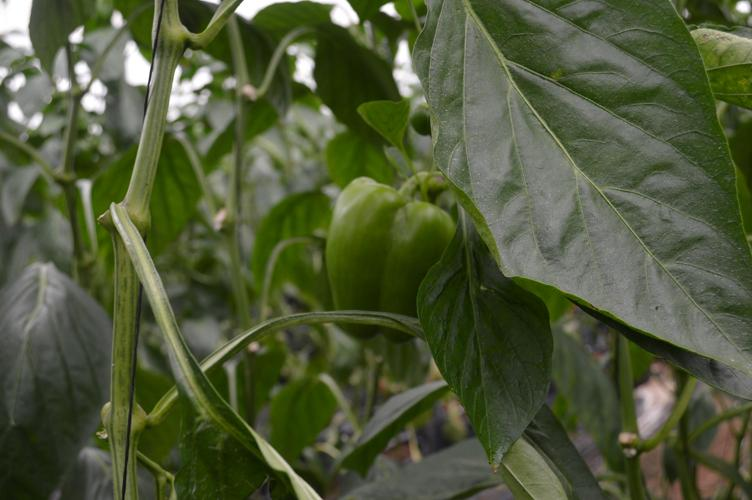BellPepper: (325, 177, 450, 344)
